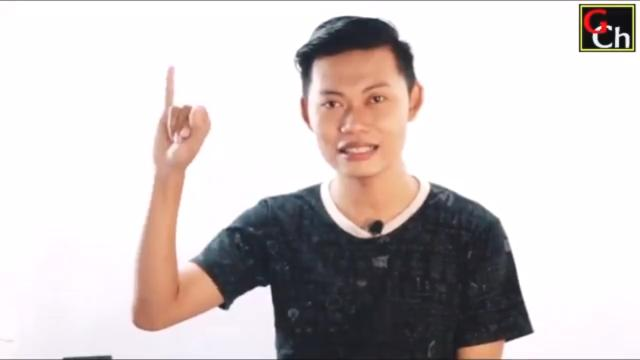I: (150, 63, 212, 176)
